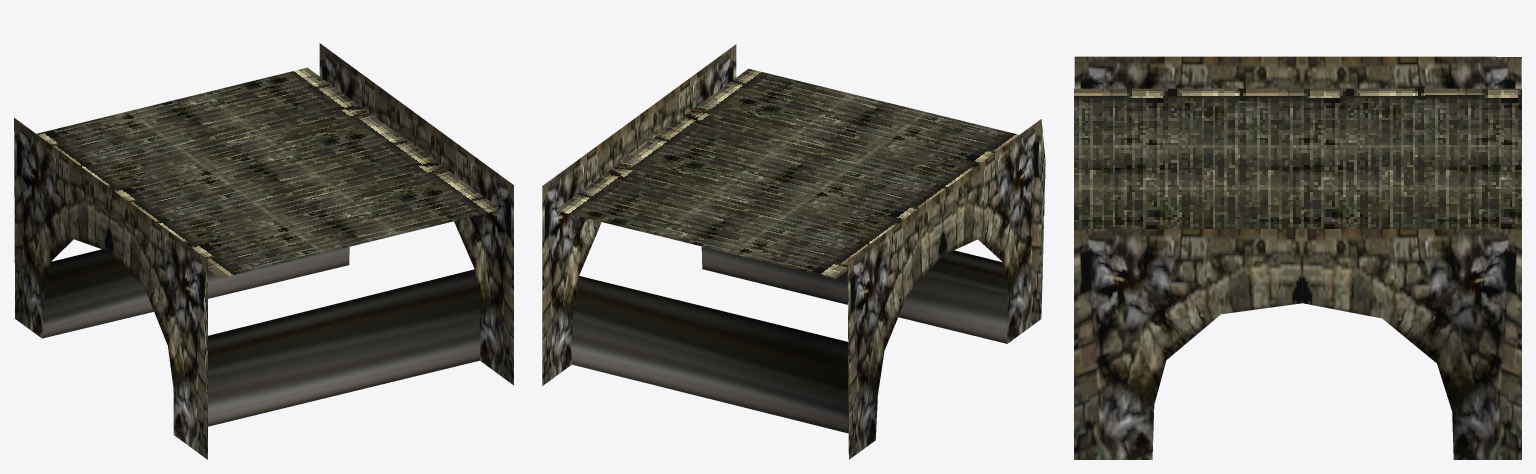
The model's file is Civilian - Commercial Building - Great Wall Small Arch - Damaged - CMWalChna2_D.glb.
The picture shows the model from 3 angles, left to right: view 1: azimuth 30°, elevation 25°; view 2: azimuth 150°, elevation 25°; view 3: azimuth 270°, elevation 25°; orthographic projection. The views are drawn at different scales.
Parts seen in each view (by area): view 1: CMWALCHNA2_D; view 2: CMWALCHNA2_D; view 3: CMWALCHNA2_D.
Boxes of the visible parts, x1,y1,x2,y2 form: CMWALCHNA2_D: (14, 43, 513, 459); CMWALCHNA2_D: (542, 44, 1045, 459); CMWALCHNA2_D: (1074, 56, 1521, 459).
Bounding box in the file's own units: 59.67 × 43.6 × 64.54.
3 materials, 3 textured.
